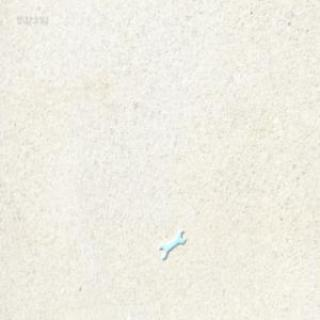Wrenchtrack_idkeyframe: (158, 230, 184, 260)
